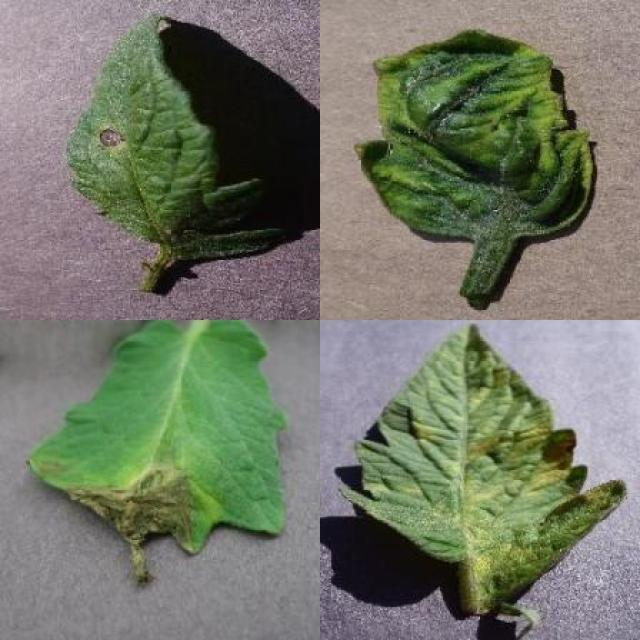Early Blight: (67, 12, 273, 258)
Late Blight: (27, 320, 289, 587)
Leaf Mold: (342, 323, 627, 600)
Yellow Leaf Curl Virus: (353, 28, 596, 245)
